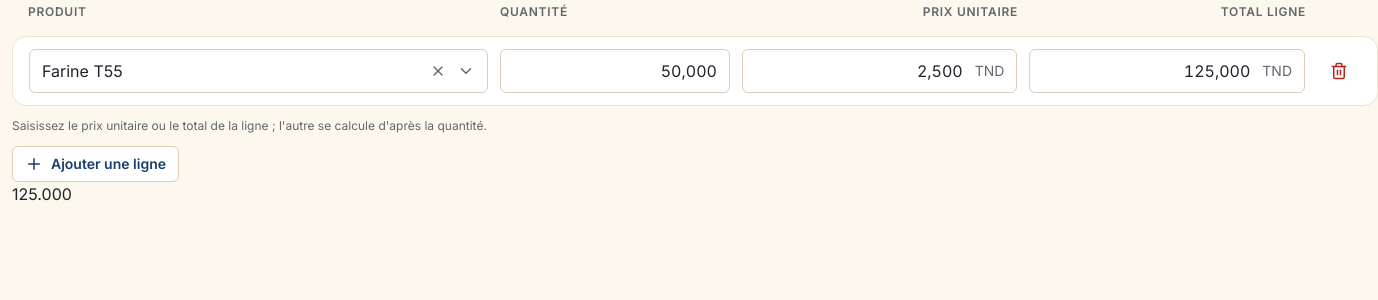
it: LineEditor › adds and removes lines
expect the text with test id "total" reads "125.000": met, box [12,184,72,204]
What coordinates should you click on to do the following:
click the button "Ajouter une ligne"
I would click on:
 (96, 164)
Its box is [12,146,179,182].
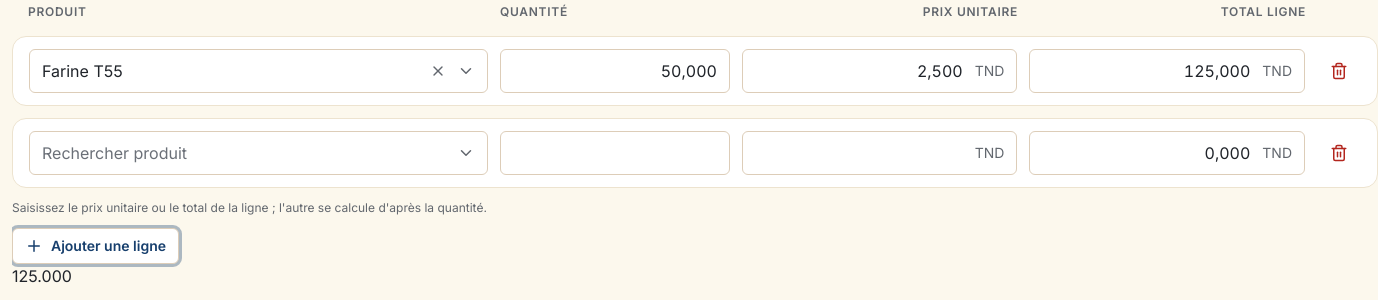
expect the number of dropdowns named "Produit" is 2: met, box [29,49,488,93]; [29,131,488,175]
What coordinates should you click on to do the following:
click the button named "Retirer la ligne 1"
I would click on:
 (1339, 71)
Its box is [1319,51,1359,91].
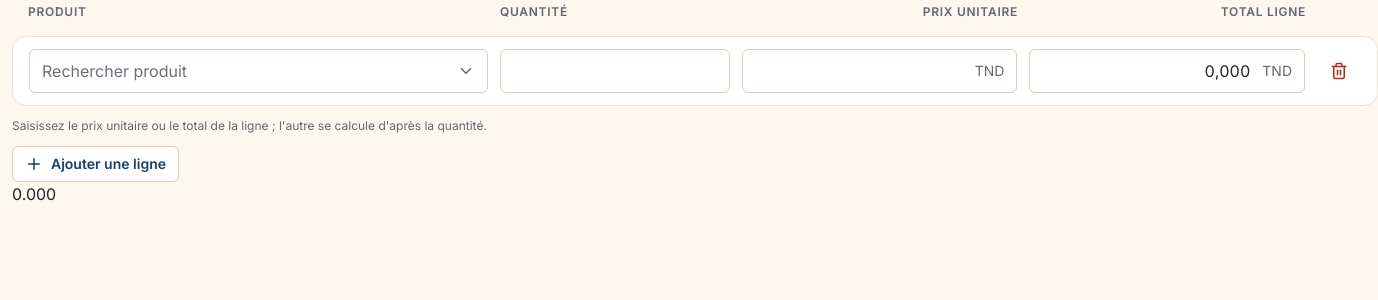
expect the text with test id "total" reads "0.000": met, box [12,184,56,204]
